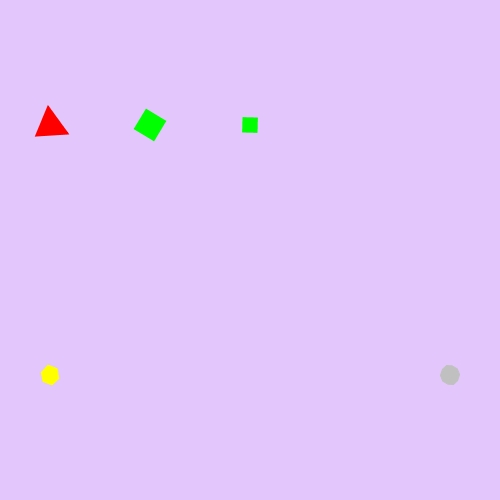decagon: (435, 361, 465, 389)
hexagon: (35, 362, 65, 388)
quadrilateral: (130, 105, 171, 146), (235, 110, 265, 140)
triangle: (31, 105, 70, 146)
